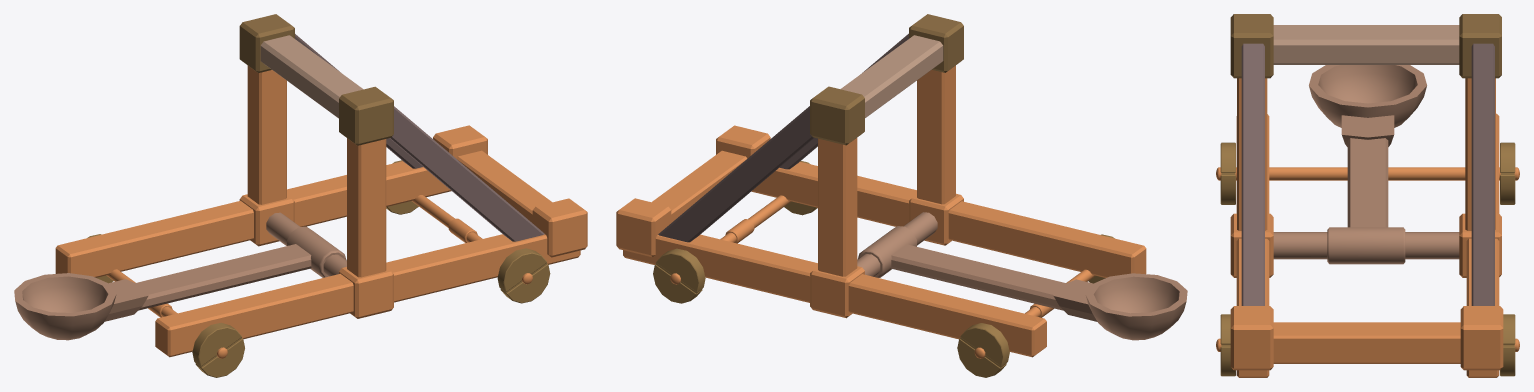
File: catapulta-a.fbx
3 renders of one model, left to right at view 1: azimuth 30°, elevation 25°; view 2: azimuth 150°, elevation 25°; view 3: azimuth 270°, elevation 25°, orthographic. The views are drawn at different scales.
Visible parts, largest first — view 1: base_catapul, catapbrazo, pal_derecho_catap1, ruedas_catap, bloq_catap, palo_sup_catap1, palo_izq_catap1; view 2: base_catapul, catapbrazo, palo_izq_catap1, ruedas_catap, bloq_catap, palo_sup_catap1, pal_derecho_catap1; view 3: base_catapul, catapbrazo, palo_sup_catap1, palo_izq_catap1, pal_derecho_catap1, bloq_catap, ruedas_catap.
Part boxes in pixels (<box>): base_catapul: <box>55,65,587,358</box>; catapbrazo: <box>14,212,346,340</box>; pal_derecho_catap1: <box>389,106,544,241</box>; ruedas_catap: <box>87,160,550,377</box>; bloq_catap: <box>239,14,393,145</box>; palo_sup_catap1: <box>260,35,363,118</box>; palo_izq_catap1: <box>295,34,422,168</box>; base_catapul: <box>616,65,1146,358</box>; catapbrazo: <box>857,212,1187,340</box>; palo_izq_catap1: <box>658,106,814,242</box>; ruedas_catap: <box>653,161,1114,377</box>; bloq_catap: <box>810,14,963,145</box>; palo_sup_catap1: <box>840,35,943,117</box>; pal_derecho_catap1: <box>780,33,908,169</box>; base_catapul: <box>1216,78,1519,377</box>; catapbrazo: <box>1273,65,1459,264</box>; palo_sup_catap1: <box>1273,25,1459,64</box>; palo_izq_catap1: <box>1471,43,1494,305</box>; pal_derecho_catap1: <box>1241,43,1264,305</box>; bloq_catap: <box>1230,14,1501,78</box>; ruedas_catap: <box>1220,142,1515,376</box>.
Size of the model in its own units: 12.18 by 5.32 by 5.47.
